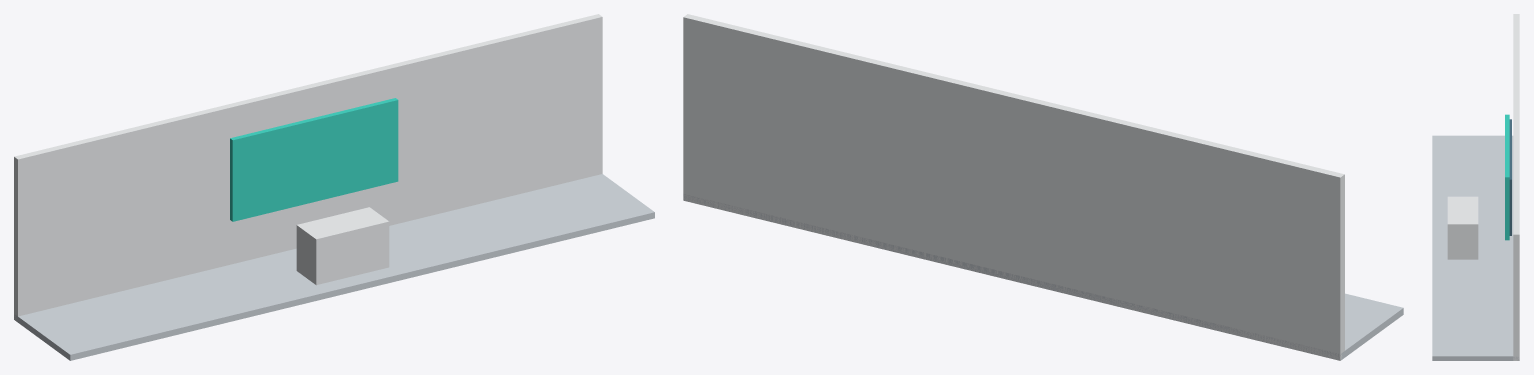
The picture shows the model from 3 angles, left to right: view 1: azimuth 30°, elevation 25°; view 2: azimuth 150°, elevation 25°; view 3: azimuth 270°, elevation 25°; orthographic projection. The views are drawn at different scales.
Visible parts, largest first — view 1: Exhibition Booth Concept; view 2: Exhibition Booth Concept; view 3: Exhibition Booth Concept.
Boxes of the visible parts, x1,y1,x2,y2 form: Exhibition Booth Concept: (14, 14, 654, 360); Exhibition Booth Concept: (683, 14, 1403, 360); Exhibition Booth Concept: (1432, 14, 1519, 360).
Size of the model in its own units: 12 by 3.2 by 2.
